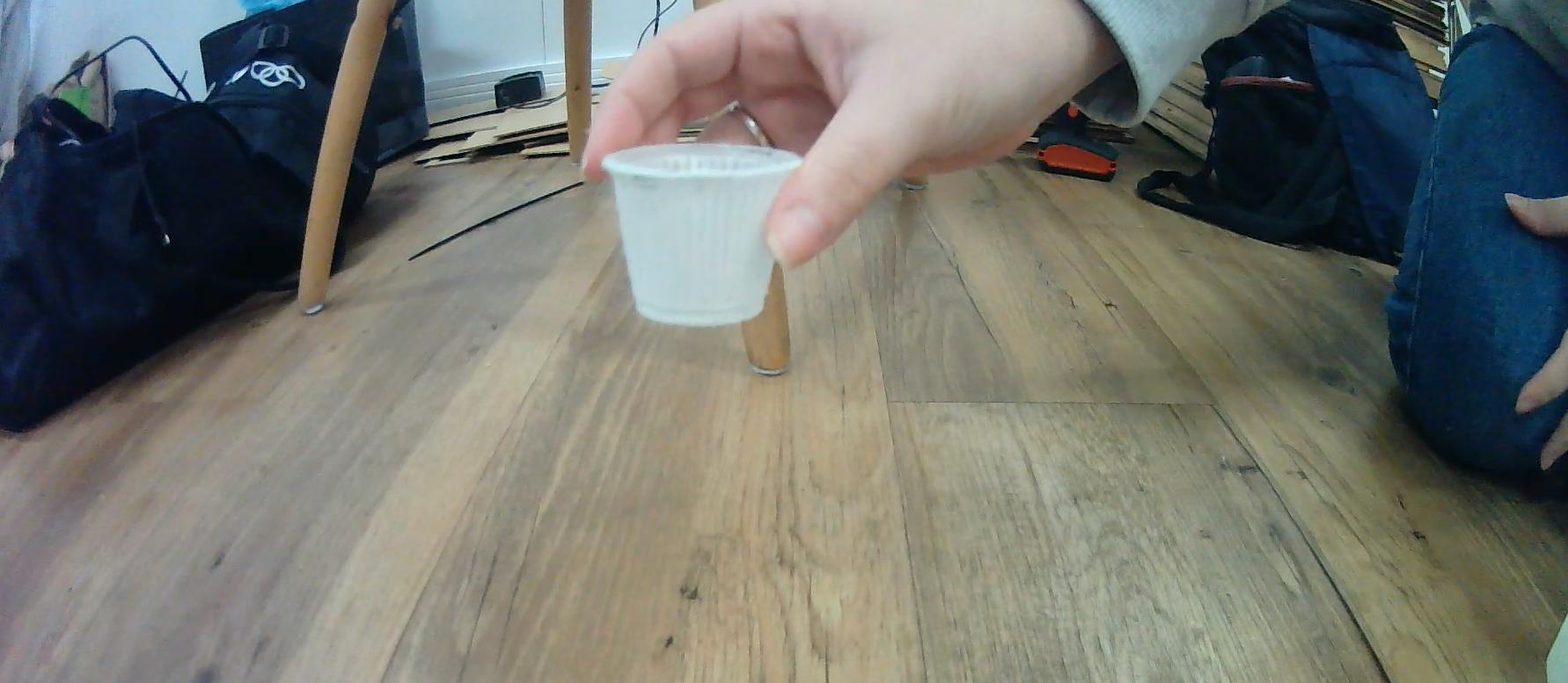planta: (601, 143, 805, 328)
